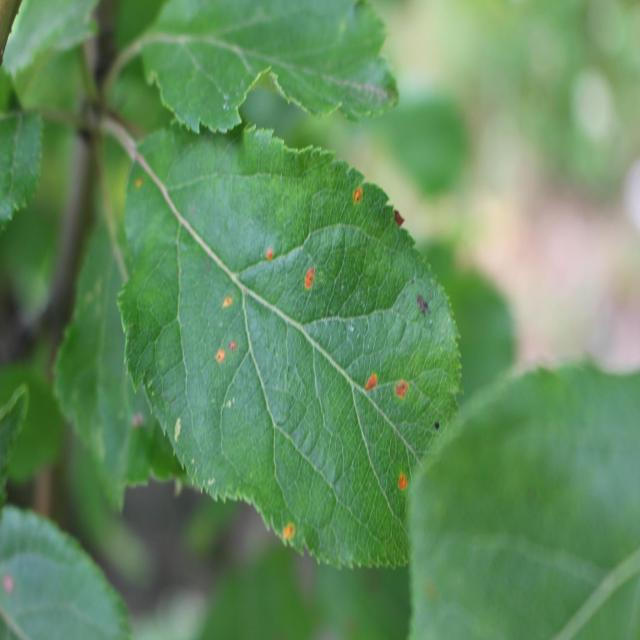Rust: (278, 499, 314, 561), (211, 324, 246, 370), (391, 452, 415, 514), (387, 369, 418, 413), (297, 255, 321, 308), (357, 370, 392, 400), (215, 291, 248, 319), (262, 229, 281, 271), (351, 177, 369, 209)
